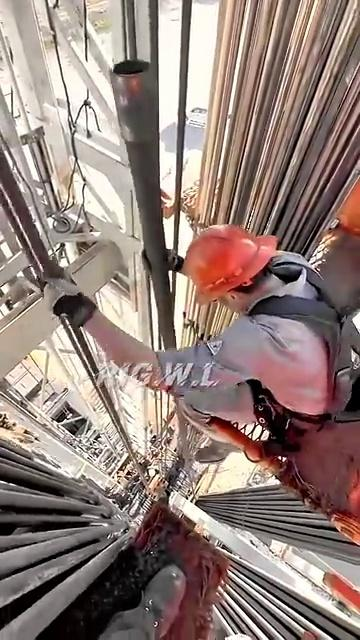gloves: (48, 288, 95, 320)
helmet: (152, 212, 285, 313)
shoes: (157, 430, 248, 485)
worker: (78, 185, 332, 522)
